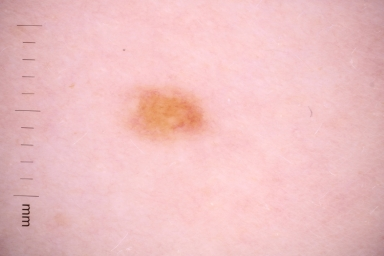melanoma: (131, 89, 203, 135)
